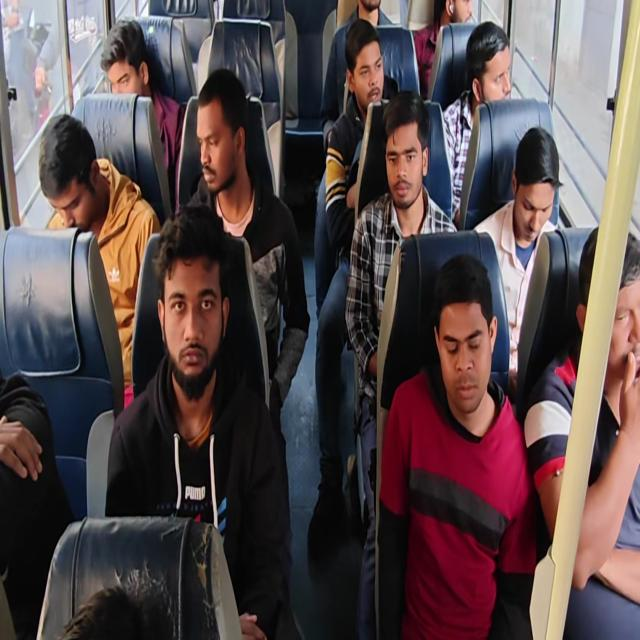person: (2, 2, 638, 638), (104, 204, 295, 638), (344, 89, 458, 637), (376, 252, 537, 638), (182, 67, 310, 545), (307, 18, 398, 560), (524, 225, 640, 605), (38, 113, 161, 408), (473, 125, 563, 401), (0, 366, 74, 638), (324, 18, 397, 260), (99, 17, 186, 214), (442, 20, 512, 226), (58, 562, 176, 639), (412, 0, 475, 99), (335, 0, 395, 30)
